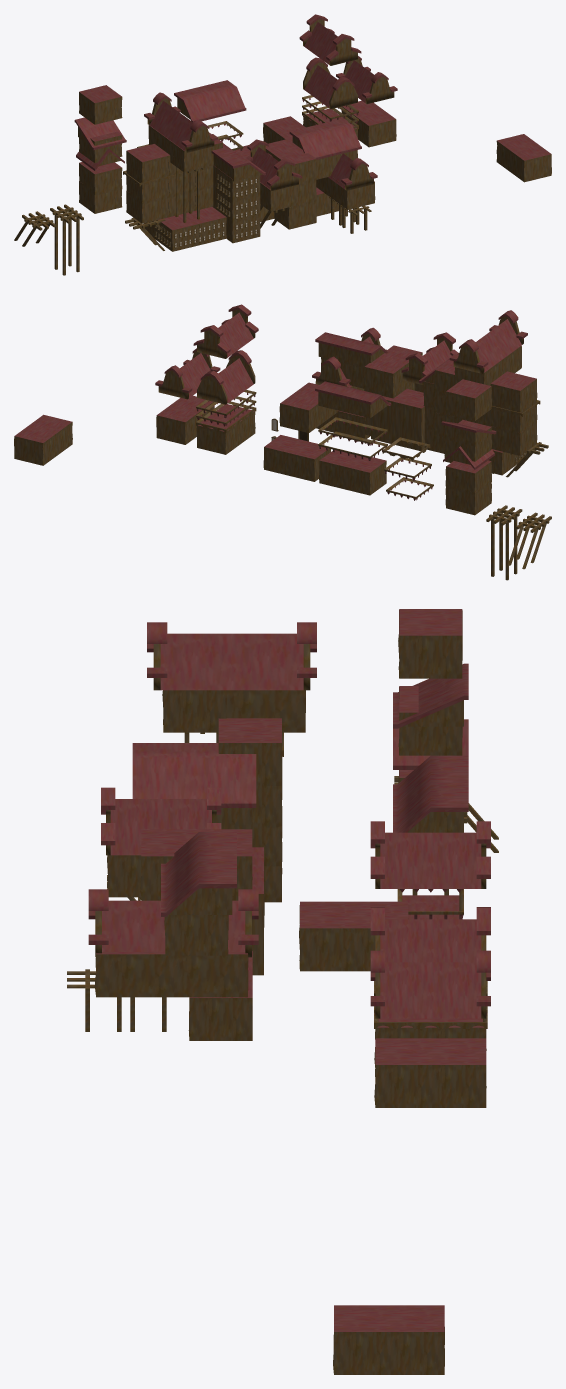
Rendered from poor distyrict 2.fbx.
The picture shows the model from 3 angles, top to bottom: view 1: azimuth 30°, elevation 25°; view 2: azimuth 150°, elevation 25°; view 3: azimuth 270°, elevation 25°; orthographic projection. The views are drawn at different scales.
Visible parts, largest first — view 1: PoorDistrictBuildingMedium_Roof3.001, PoorDistrictBuildingLarge_Roof.001, PoorDistrictBuildingLarge_Roof.002, PoorDistrictBuildingMedium_Model.011, PoorDistrictBuildingMedium_Roof2, PoorDistrictBuildingMedium_Roof1.001, PoorDistrictBuildingMedium_Model.008, PoorDistrictBuildingMedium_Roof1, PoorDistrictBuildingMedium_Roof3, PoorDistrictBuildingSmall_Model.006, PoorDistrictBuildingSmall_Model.017, PoorDistrictBuildingMedium_Model.007 (+33 smaller); view 2: PoorDistrictBuildingMedium_Model.002, PoorDistrictBuildingMedium_Roof3.001, PoorDistrictBuildingLarge_Model, PoorDistrictBuildingMedium_Model.011, PoorDistrictBuildingLarge_Model.004, PoorDistrictBuildingMedium_Model, PoorDistrictBuildingMedium_Roof2, PoorDistrictBuildingMedium_Roof1.001, PoorDistrictBuildingMedium_Model.008, PoorDistrictBuildingMedium_Model.007, PoorDistrictBuildingLarge_Roof.001, PoorDistrictBuildingMedium_Roof3 (+28 smaller); view 3: PoorDistrictBuildingMedium_Roof3.001, PoorDistrictBuildingMedium_Model.008, PoorDistrictBuildingMedium_Model.011, PoorDistrictBuildingMedium_Roof1.001, PoorDistrictBuildingMedium_Roof3, PoorDistrictBuildingLarge_Model.003, PoorDistrictBuildingLarge_Roof, PoorDistrictBuildingMedium_Roof3.002, PoorDistrictBuildingLarge_Roof.002, PoorDistrictBuildingLarge_Roof.001, PoorDistrictBuildingMedium_Roof2, PoorDistrictBuildingMedium_Roof1 (+17 smaller).
Part boxes in pixels (x1,y1,x2,y2): PoorDistrictBuildingMedium_Roof3.001: [144, 92, 217, 152]; PoorDistrictBuildingLarge_Roof.001: [174, 80, 246, 122]; PoorDistrictBuildingLarge_Roof.002: [289, 118, 361, 159]; PoorDistrictBuildingMedium_Model.011: [496, 134, 551, 182]; PoorDistrictBuildingMedium_Roof2: [303, 57, 357, 109]; PoorDistrictBuildingMedium_Roof1.001: [299, 14, 361, 65]; PoorDistrictBuildingMedium_Model.008: [341, 100, 396, 147]; PoorDistrictBuildingMedium_Roof1: [246, 139, 302, 190]; PoorDistrictBuildingMedium_Roof3: [336, 56, 397, 103]; PoorDistrictBuildingSmall_Model.006: [79, 85, 122, 124]; PoorDistrictBuildingSmall_Model.017: [126, 144, 168, 182]; PoorDistrictBuildingMedium_Model.007: [265, 138, 316, 184]; PoorDistrictBuildingMedium_Model.002: [371, 388, 424, 450]; PoorDistrictBuildingMedium_Roof3.001: [449, 310, 527, 373]; PoorDistrictBuildingLarge_Model: [319, 450, 386, 495]; PoorDistrictBuildingMedium_Model.011: [14, 414, 72, 465]; PoorDistrictBuildingLarge_Model.004: [263, 435, 331, 481]; PoorDistrictBuildingMedium_Model: [196, 404, 255, 454]; PoorDistrictBuildingMedium_Roof2: [197, 350, 255, 404]; PoorDistrictBuildingMedium_Roof1.001: [193, 304, 258, 358]; PoorDistrictBuildingMedium_Model.008: [156, 395, 214, 444]; PoorDistrictBuildingMedium_Model.007: [364, 345, 422, 396]; PoorDistrictBuildingLarge_Roof.001: [315, 381, 391, 418]; PoorDistrictBuildingMedium_Roof3: [155, 348, 220, 399]; PoorDistrictBuildingMedium_Roof3.001: [147, 622, 316, 690]; PoorDistrictBuildingMedium_Model.008: [374, 1038, 486, 1107]; PoorDistrictBuildingMedium_Model.011: [333, 1305, 444, 1374]; PoorDistrictBuildingMedium_Roof1.001: [370, 821, 490, 888]; PoorDistrictBuildingMedium_Roof3: [370, 950, 490, 1018]; PoorDistrictBuildingLarge_Model.003: [94, 952, 248, 997]; PoorDistrictBuildingLarge_Roof: [132, 743, 256, 807]; PoorDistrictBuildingMedium_Roof3.002: [88, 889, 258, 957]; PoorDistrictBuildingLarge_Roof.002: [161, 832, 236, 916]; PoorDistrictBuildingLarge_Roof.001: [393, 755, 468, 832]; PoorDistrictBuildingMedium_Roof2: [370, 907, 490, 962]; PoorDistrictBuildingMedium_Roof1: [101, 787, 221, 855].
Size of the model in its own units: 7280 by 2554 by 2728.
